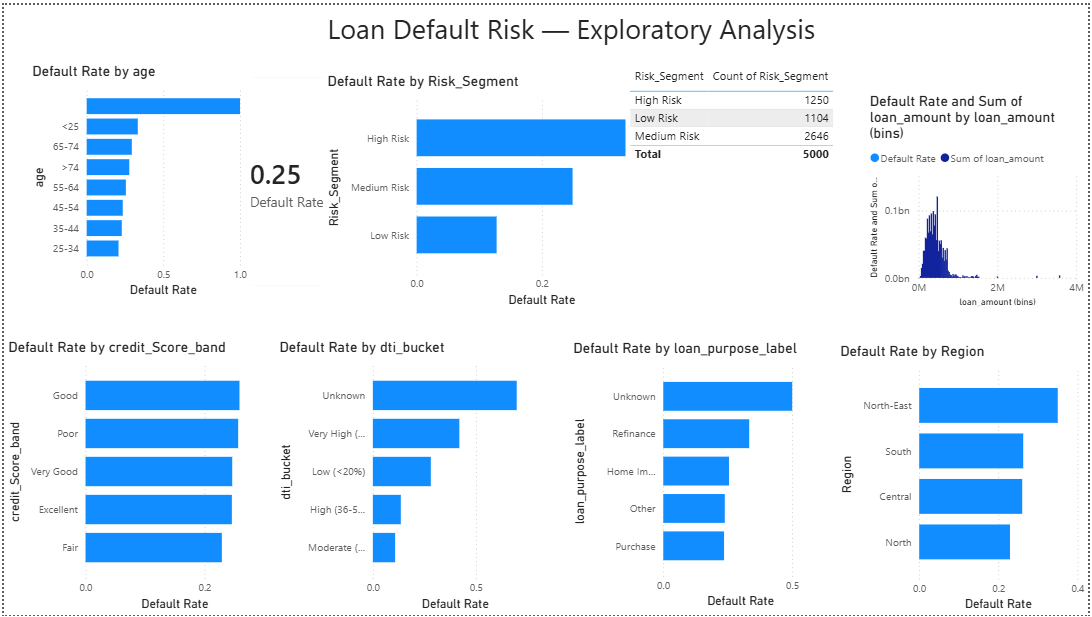

This screenshot's page, from the dashboard's own definition file:
{"tool":"powerbi","page":{"name":"Page 1","canvas":[1280,720],"ordinal":0},"visuals":[{"type":"cardVisual","fields":{"Data":["Loan_Default.Default Rate"]},"box":[260.3,68.3,263.2,280.6],"z":0},{"type":"clusteredBarChart","fields":{"Category":["Loan_Default.credit_Score_band"],"Y":["Loan_Default.Default Rate"]},"box":[0,394.1,319.9,325.7],"z":1000},{"type":"clusteredBarChart","fields":{"Category":["Loan_Default.dti_bucket"],"Y":["Loan_Default.Default Rate"]},"box":[319.9,394.1,322.8,325.7],"z":2000},{"type":"clusteredBarChart","fields":{"Category":["Loan_Default.loan_purpose_label"],"Y":["Loan_Default.Default Rate"]},"box":[666,395.5,306.8,321.4],"z":3000},{"type":"clusteredBarChart","fields":{"Category":["Loan_Default.Region"],"Y":["Loan_Default.Default Rate"]},"box":[981.5,398.4,298.1,321.4],"z":4000},{"type":"clusteredBarChart","fields":{"Category":["Loan_Default.age"],"Y":["Loan_Default.Default Rate"]},"box":[27.6,68.3,263.2,280.6],"z":5000},{"type":"columnChart","fields":{"Category":["Loan_Default.loan_amount (bins)"],"Y":["Loan_Default.Default Rate","Sum(Loan_Default.loan_amount)"]},"box":[1016.4,103.2,263.2,257.4],"z":6000},{"type":"textbox","box":[376.6,0,596.2,68.3],"z":7000},{"type":"clusteredBarChart","fields":{"Category":["Loan_Default.Risk_Segment"],"Y":["Loan_Default.Default Rate"]},"box":[376.6,80,418.8,280.6],"z":8000},{"type":"tableEx","fields":{"Values":["Loan_Default.Risk_Segment","CountNonNull(Loan_Default.Risk_Segment)"]},"box":[732.9,68.3,283.6,280.6],"z":9000}]}

Visuals, with their boxes in screenshot pixels (x1, y1, x2, y2), scaled from the page's 1280x720 canvas onto the 1092x617 screenshot:
cardVisual - Loan_Default.Default Rate: {"left": 222, "top": 59, "right": 447, "bottom": 299}
clusteredBarChart - Loan_Default.credit_Score_band x Loan_Default.Default Rate: {"left": 0, "top": 338, "right": 273, "bottom": 616}
clusteredBarChart - Loan_Default.dti_bucket x Loan_Default.Default Rate: {"left": 273, "top": 338, "right": 548, "bottom": 616}
clusteredBarChart - Loan_Default.loan_purpose_label x Loan_Default.Default Rate: {"left": 568, "top": 339, "right": 830, "bottom": 614}
clusteredBarChart - Loan_Default.Region x Loan_Default.Default Rate: {"left": 837, "top": 341, "right": 1091, "bottom": 616}
clusteredBarChart - Loan_Default.age x Loan_Default.Default Rate: {"left": 24, "top": 59, "right": 248, "bottom": 299}
columnChart - Loan_Default.loan_amount (bins) x Loan_Default.Default Rate: {"left": 867, "top": 88, "right": 1091, "bottom": 309}
textbox: {"left": 321, "top": 0, "right": 830, "bottom": 59}
clusteredBarChart - Loan_Default.Risk_Segment x Loan_Default.Default Rate: {"left": 321, "top": 69, "right": 679, "bottom": 309}
tableEx - Loan_Default.Risk_Segment x CountNonNull(Loan_Default.Risk_Segment): {"left": 625, "top": 59, "right": 867, "bottom": 299}
